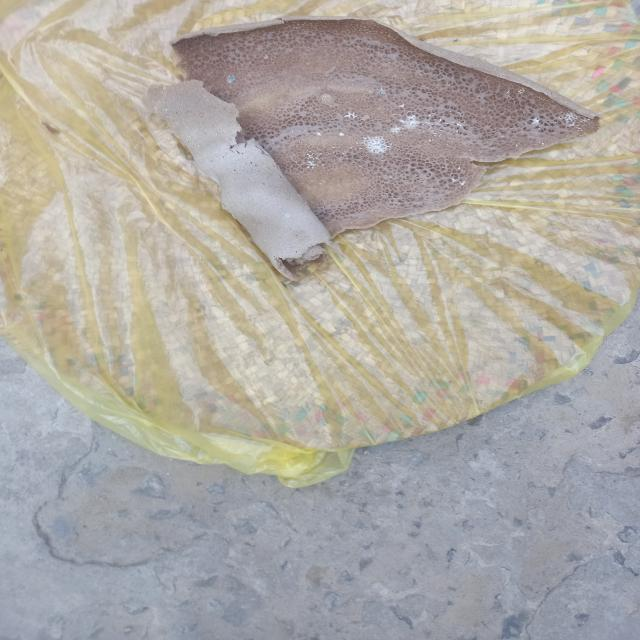injera_mold: (362, 133, 392, 155), (426, 113, 444, 140), (302, 150, 324, 170), (562, 109, 578, 130), (402, 115, 420, 131), (451, 177, 470, 186), (445, 121, 469, 128), (536, 96, 555, 104), (389, 122, 400, 135), (263, 53, 278, 62), (344, 110, 357, 120), (530, 116, 542, 126), (225, 74, 236, 84), (377, 87, 388, 96), (505, 88, 512, 102), (355, 141, 362, 153), (517, 86, 525, 96), (580, 118, 591, 124), (449, 111, 465, 115), (152, 105, 158, 115), (284, 212, 292, 219), (338, 132, 347, 138), (314, 131, 323, 136), (515, 142, 522, 148), (318, 205, 326, 210), (398, 103, 407, 107), (457, 165, 462, 172), (353, 179, 360, 184), (329, 152, 345, 154), (196, 143, 201, 149), (290, 128, 295, 134), (293, 160, 299, 165), (539, 142, 546, 146), (294, 159, 298, 166), (453, 130, 460, 134), (392, 112, 399, 116), (186, 134, 192, 138), (352, 180, 358, 184), (500, 134, 504, 139), (297, 140, 302, 144), (467, 148, 472, 152), (164, 107, 166, 115), (316, 183, 324, 185), (330, 146, 336, 148), (170, 117, 172, 121), (394, 75, 398, 77)
